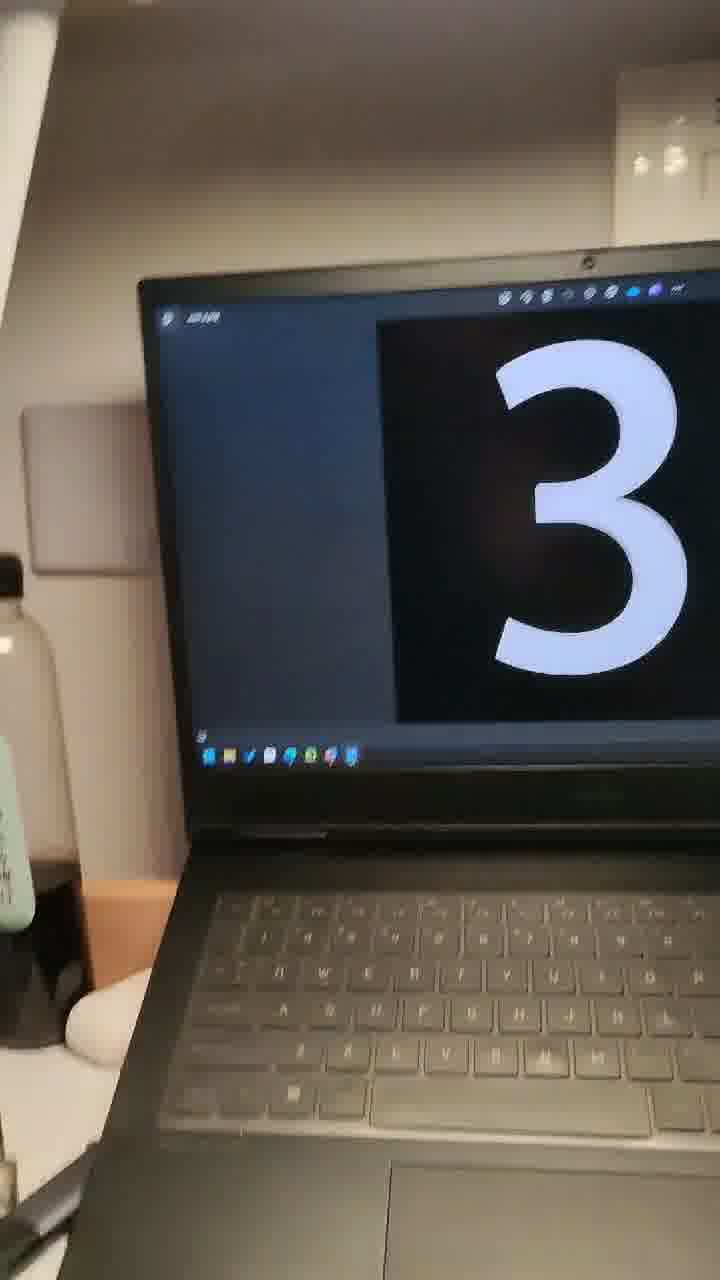three: (471, 278, 715, 726)
